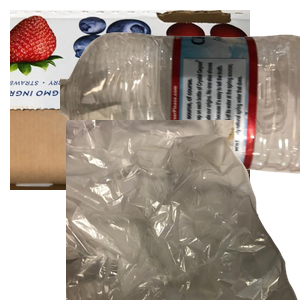cardboard: (10, 10, 250, 190)
glass: (71, 120, 254, 300)
plastic: (60, 30, 300, 196)
trash: (66, 120, 300, 300)
